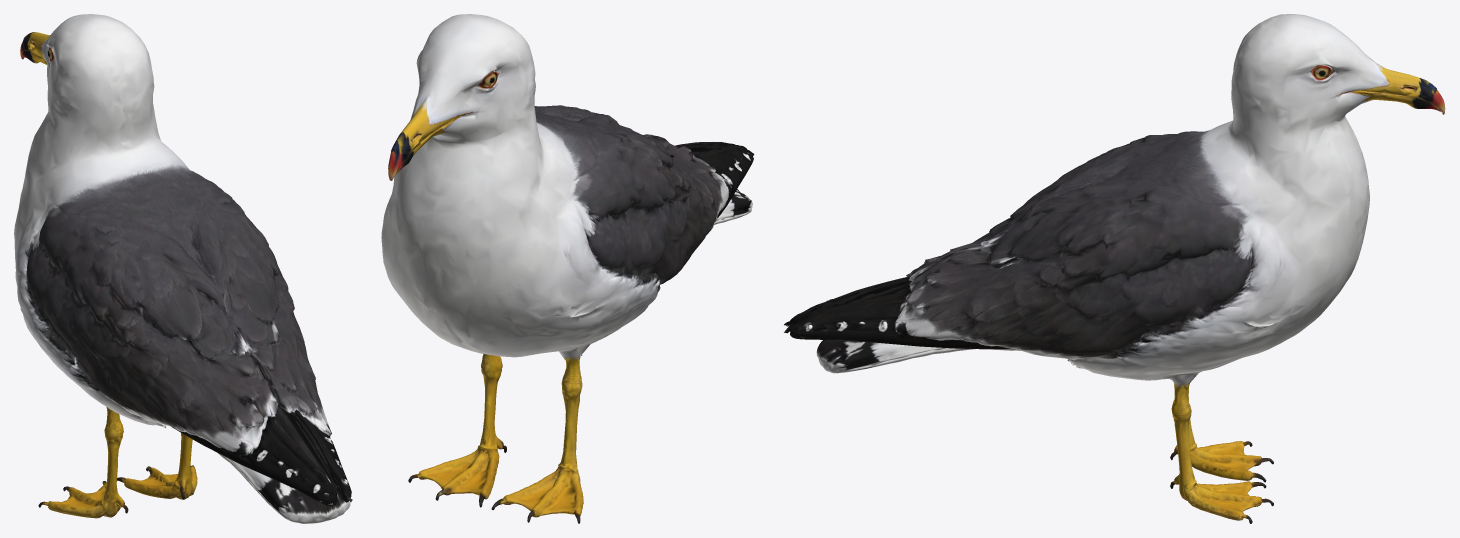
The model's file is gull-high.glb.
3 renders of one model, left to right at view 1: azimuth 30°, elevation 25°; view 2: azimuth 150°, elevation 25°; view 3: azimuth 270°, elevation 25°, orthographic. The views are drawn at different scales.
Visible parts, largest first — view 1: tripo_node_6db6bc4d-722d-494c-9df9-a40319262510; view 2: tripo_node_6db6bc4d-722d-494c-9df9-a40319262510; view 3: tripo_node_6db6bc4d-722d-494c-9df9-a40319262510.
Part boxes in pixels (x1,y1,x2,y2): tripo_node_6db6bc4d-722d-494c-9df9-a40319262510: (14,14,352,523); tripo_node_6db6bc4d-722d-494c-9df9-a40319262510: (381,14,754,523); tripo_node_6db6bc4d-722d-494c-9df9-a40319262510: (784,14,1445,523).
Bounding box in the file's own units: 0.1783 × 0.3752 × 0.481.
Materials: 1 (1 with a texture image).
